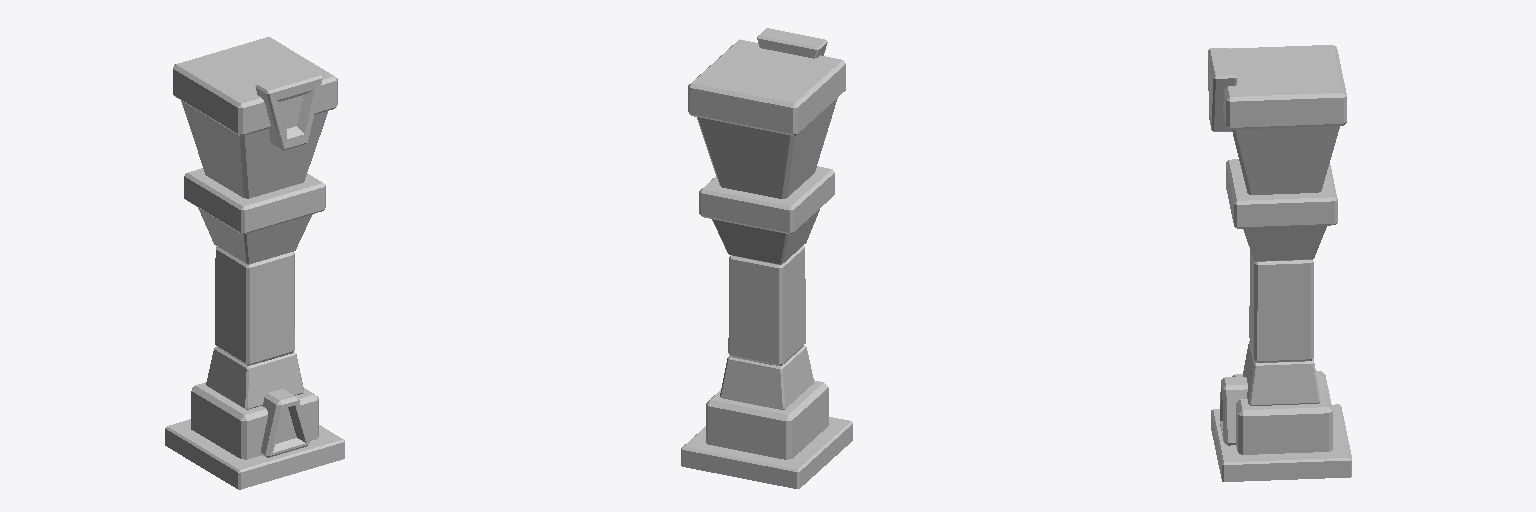
Rendered from pillar.obj.
3 views of the same model, side by side, from view 1: azimuth 30°, elevation 25°; view 2: azimuth 150°, elevation 25°; view 3: azimuth 270°, elevation 25° (orthographic).
Visible parts, largest first — view 1: Socle1; view 2: Socle1; view 3: Socle1.
Boxes of the visible parts, x1,y1,x2,y2 form: Socle1: [165, 37, 344, 489]; Socle1: [681, 28, 852, 488]; Socle1: [1208, 45, 1351, 481].
Size of the model in its own units: 170 by 520 by 174.